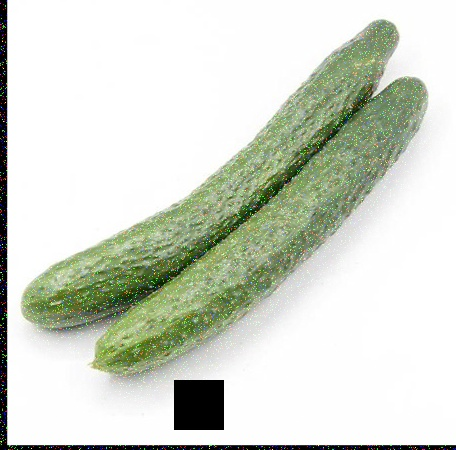cucumber: (27, 27, 401, 330), (97, 71, 423, 376)
